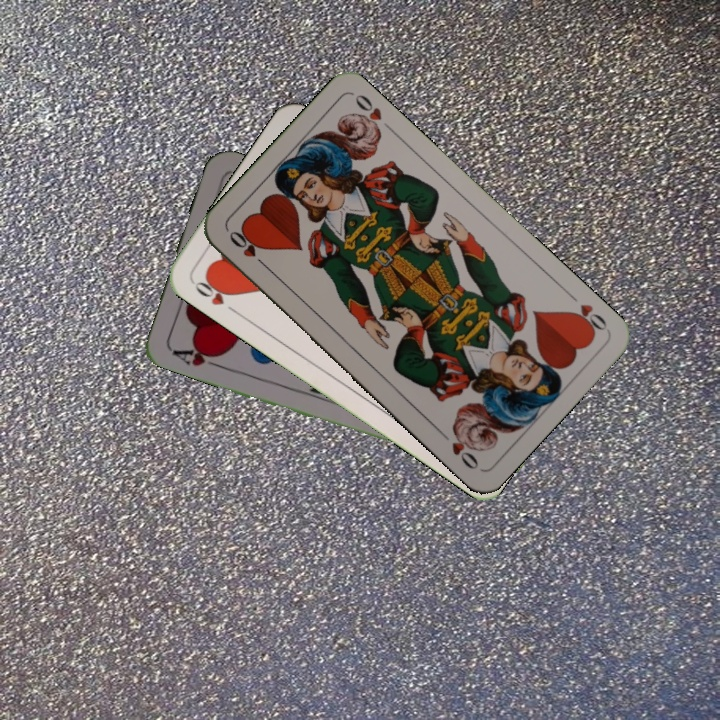HA: (166, 341, 226, 371)
HO: (563, 288, 610, 338), (189, 272, 241, 316), (225, 226, 271, 272)
